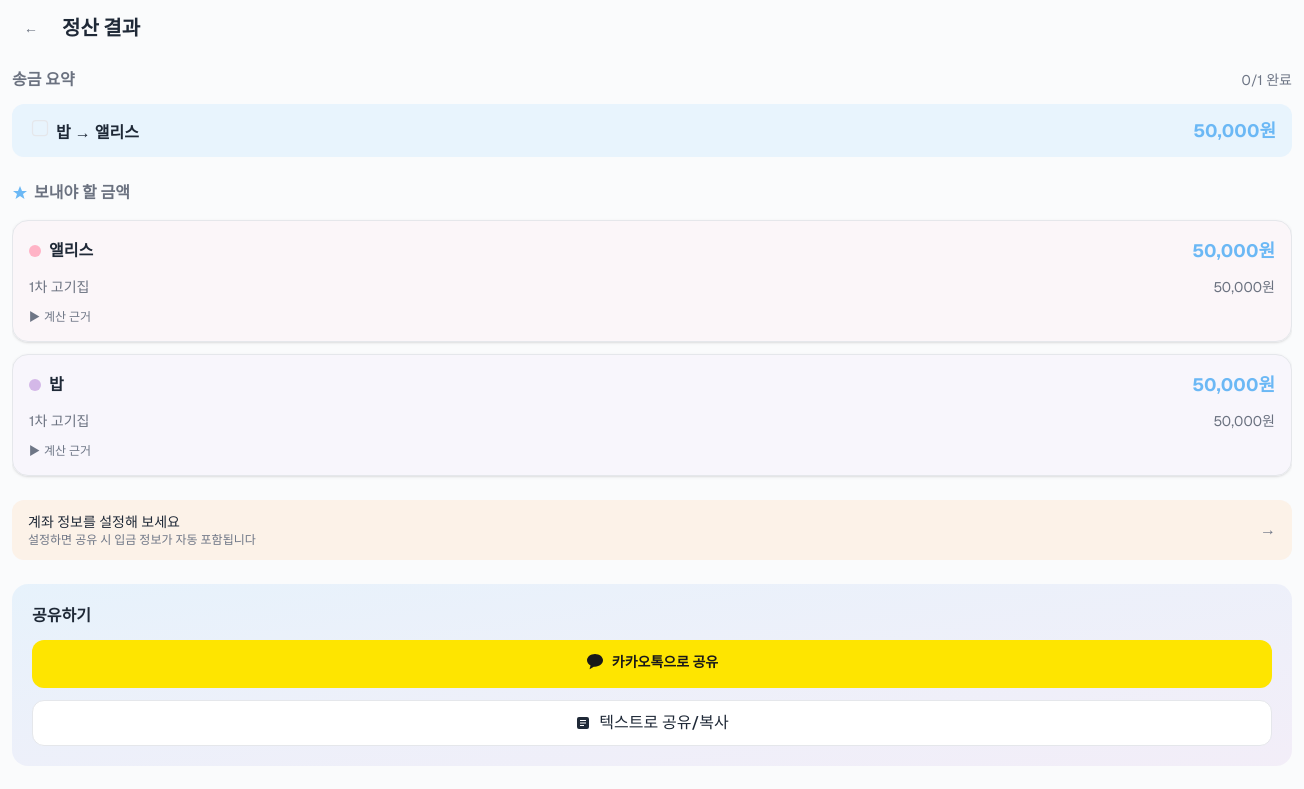
Test: SettlementPage - 송금 요약 › 초기화 버튼으로 모든 완료 상태 리셋
Click the button with aria-label "송금 완료 표시" at (117, 132), box [12,104,1292,157]
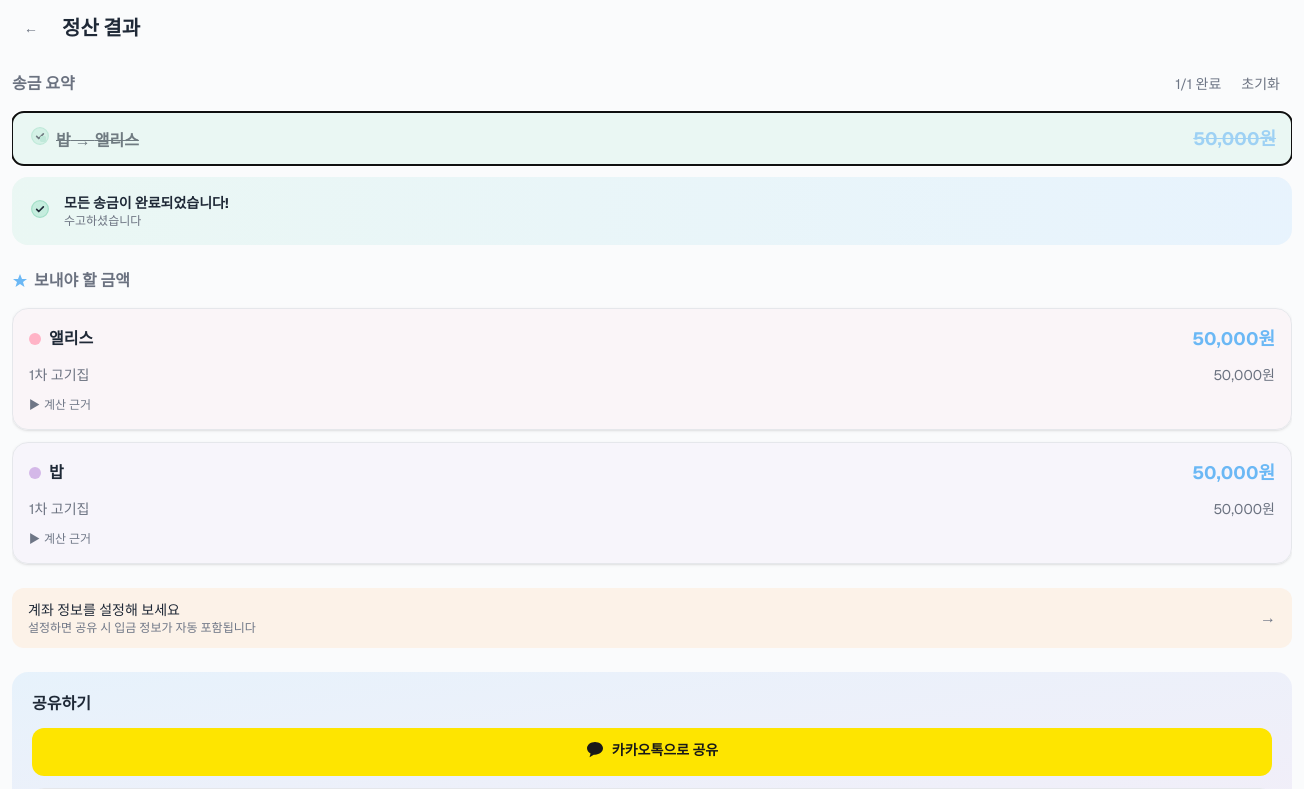
Result: the text "1/1 완료" is shown at [1175,74,1221,94]
Click the button "초기화" at (1261, 84), box [1229,68,1292,100]
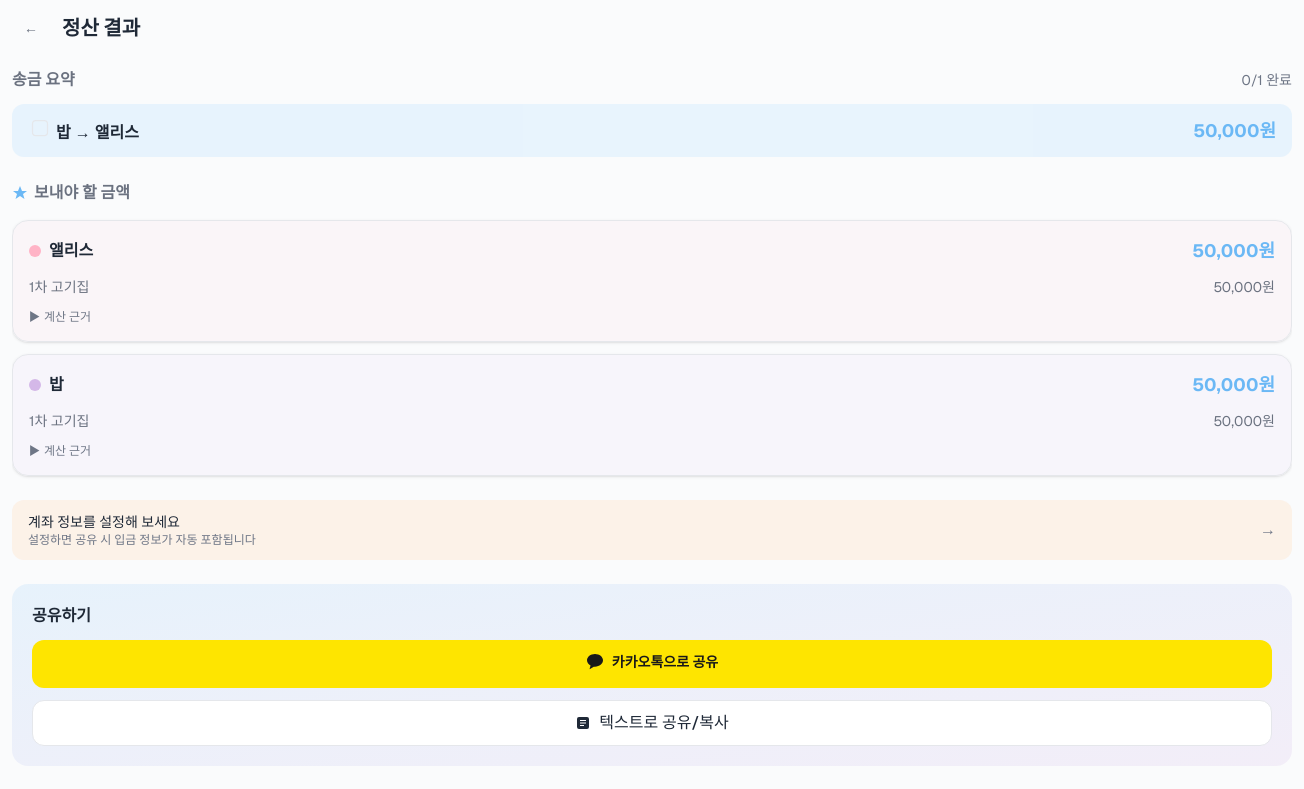
Result: the text "0/1 완료" is shown at [1242,70,1292,90]
